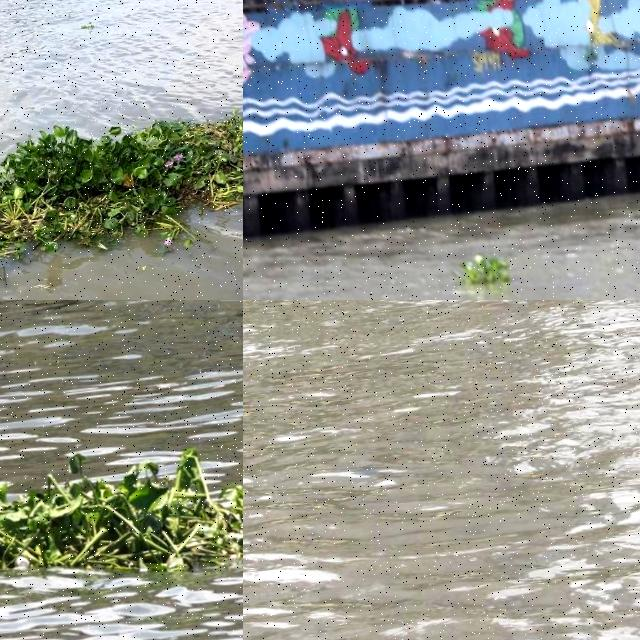water-hyacinth: (1, 80, 244, 301), (1, 428, 244, 607), (456, 247, 518, 292)
